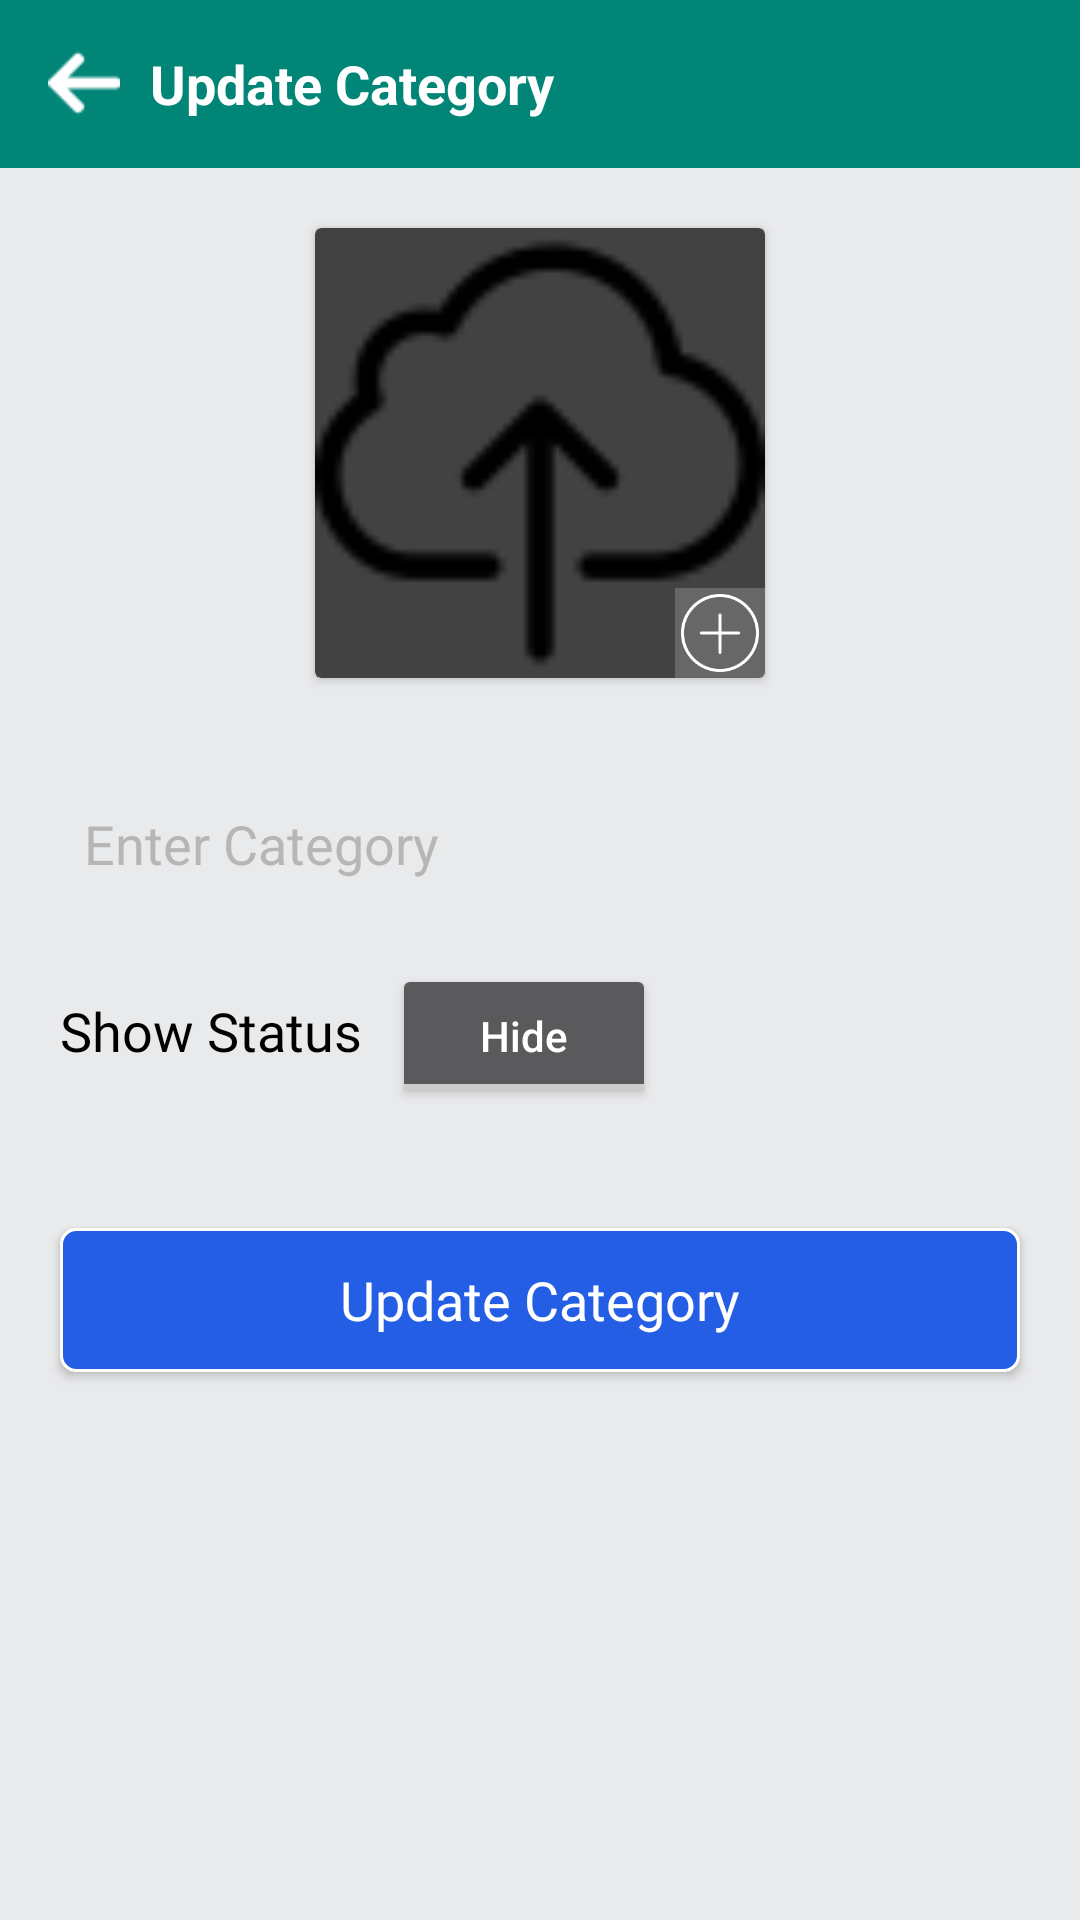

Icons on this 1080 x 1920 Android screen, each with its box as box=[x1, y1, x2, y2]:
back arrow: box=[48, 51, 120, 115]
